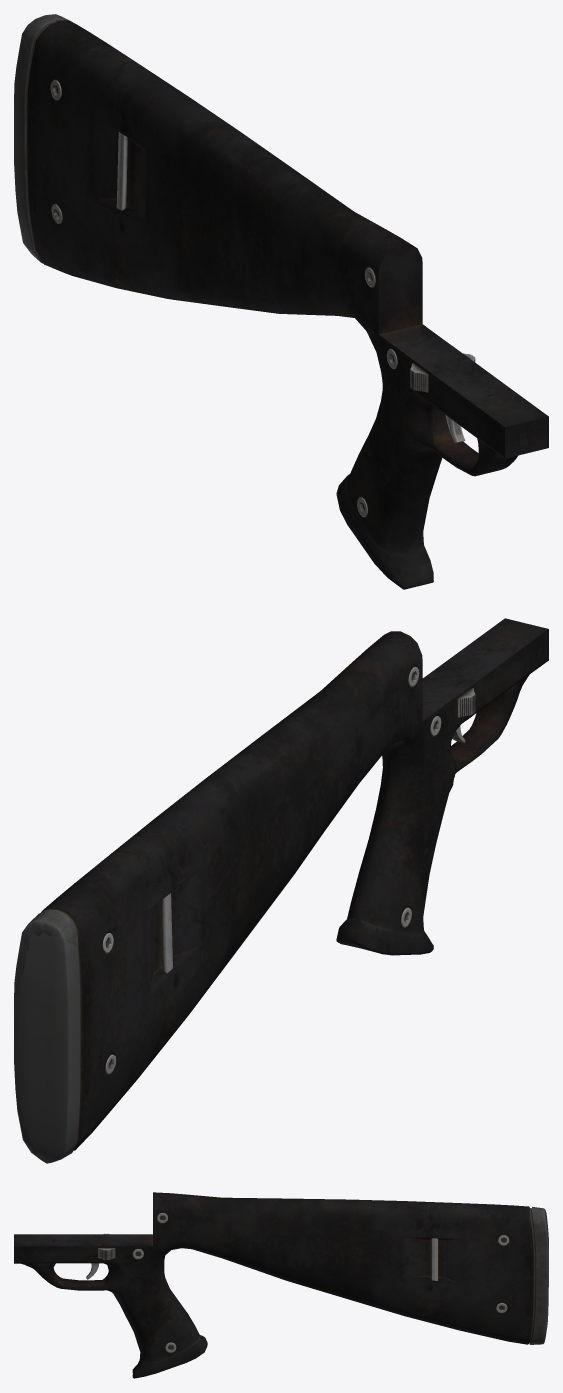
The model's file is Stock_Shootgun_1.glb.
The picture shows the model from 3 angles, top to bottom: view 1: azimuth 30°, elevation 25°; view 2: azimuth 150°, elevation 25°; view 3: azimuth 270°, elevation 25°; orthographic projection. The views are drawn at different scales.
Visible parts, largest first — view 1: Stock_Shootgun_1; view 2: Stock_Shootgun_1; view 3: Stock_Shootgun_1.
Part boxes in pixels (left/top/right/bottom): Stock_Shootgun_1: left=14, top=14, right=548, bottom=589; Stock_Shootgun_1: left=14, top=618, right=548, bottom=1163; Stock_Shootgun_1: left=14, top=1192, right=548, bottom=1378.
Size of the model in its own units: 0.0311 by 0.1594 by 0.4266.
1 material, 1 textured.
